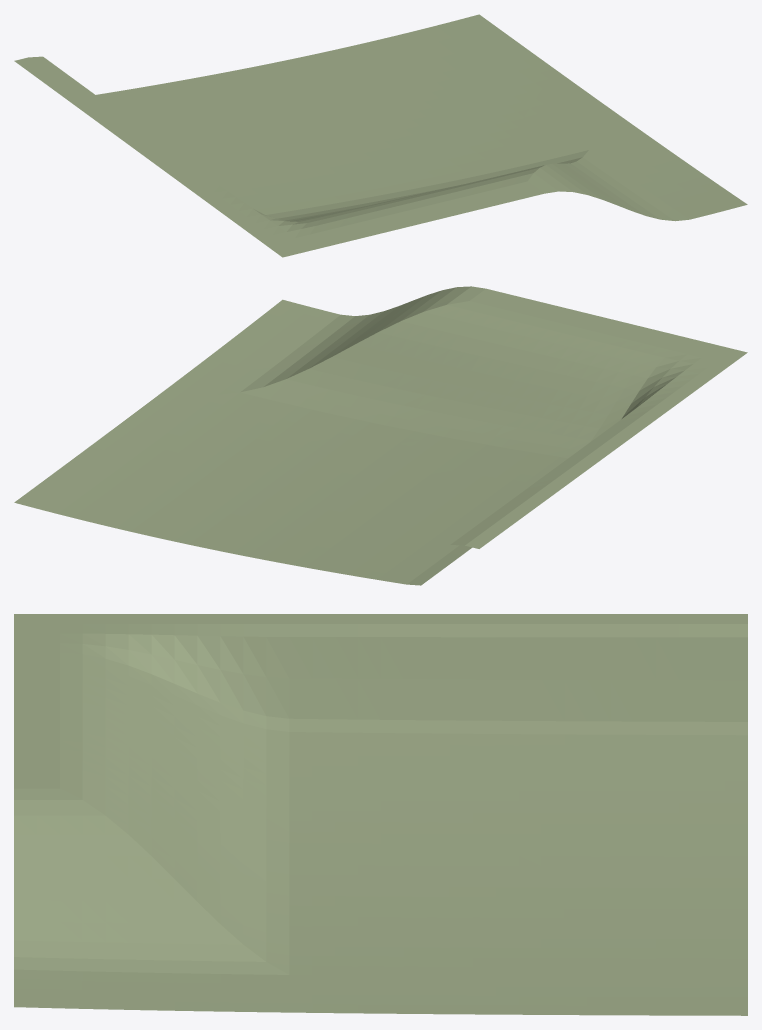
The model's file is valley-8-11.glb.
The picture shows the model from 3 angles, top to bottom: view 1: azimuth 30°, elevation 25°; view 2: azimuth 150°, elevation 25°; view 3: azimuth 270°, elevation 25°; orthographic projection. The views are drawn at different scales.
Parts seen in each view (by area): view 1: valley-8-11; view 2: valley-8-11; view 3: valley-8-11.
Part boxes in pixels (bbox=[...]): valley-8-11: bbox=[14, 14, 747, 257]; valley-8-11: bbox=[14, 286, 747, 585]; valley-8-11: bbox=[14, 614, 747, 1015].
Bounding box in the file's own units: 256 × 35.7 × 256.
